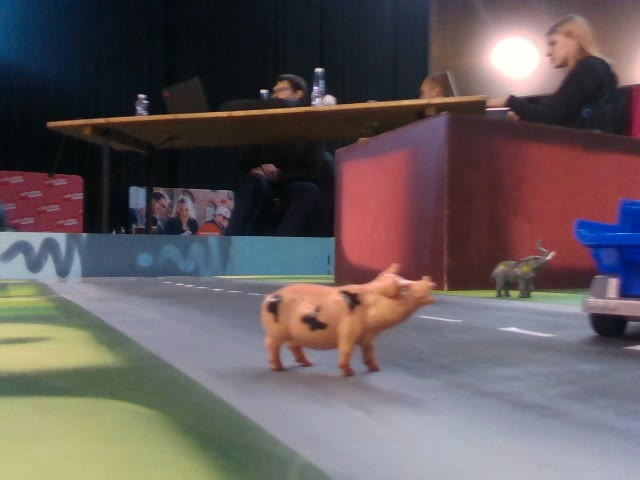toy: (257, 259, 438, 376), (491, 240, 557, 299)
